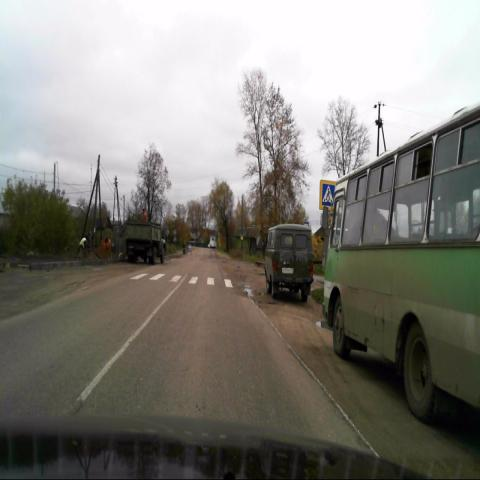5_19_1: (320, 180, 337, 211)
